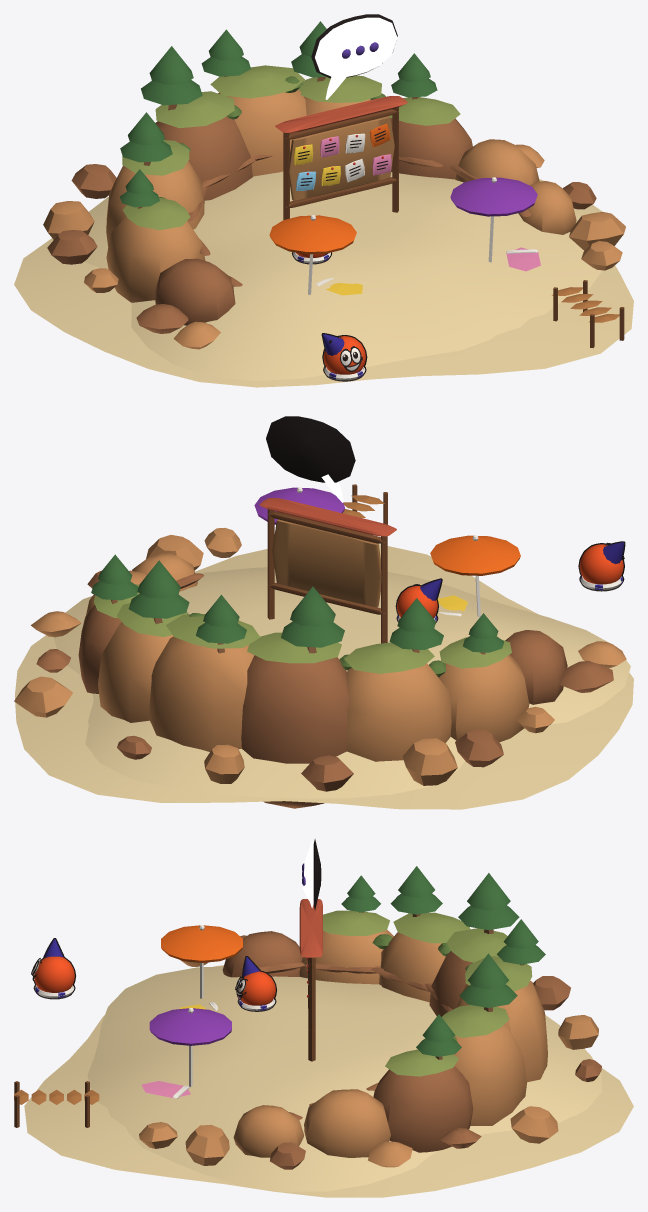
Rendered from calitas.glb.
The picture shows the model from 3 angles, top to bottom: view 1: azimuth 30°, elevation 25°; view 2: azimuth 150°, elevation 25°; view 3: azimuth 270°, elevation 25°; orthographic projection. The views are drawn at different scales.
Parts seen in each view (by area): view 1: calitas_isla; view 2: calitas_isla; view 3: calitas_isla.
Part boxes in pixels (x1,y1,x2,y2): calitas_isla: (14, 14, 633, 387); calitas_isla: (14, 416, 633, 809); calitas_isla: (14, 839, 633, 1197).
Bounding box in the file's own units: 15.82 × 8.68 × 16.89.
